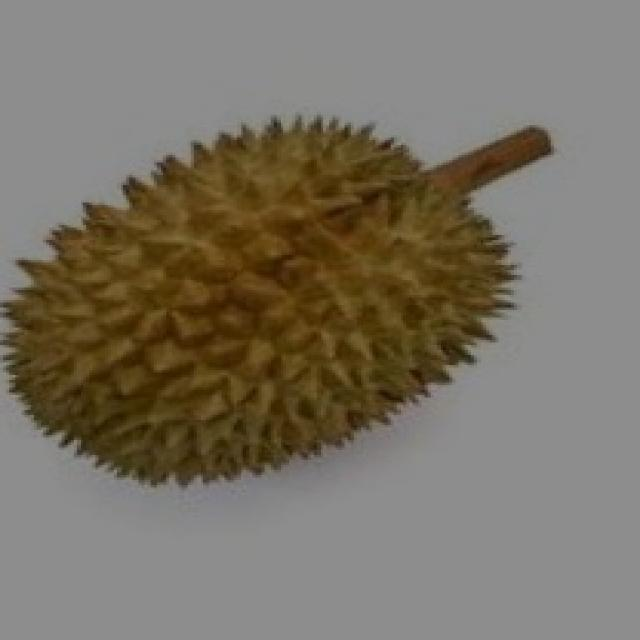fruit: (194, 98, 575, 530), (0, 145, 363, 537)
